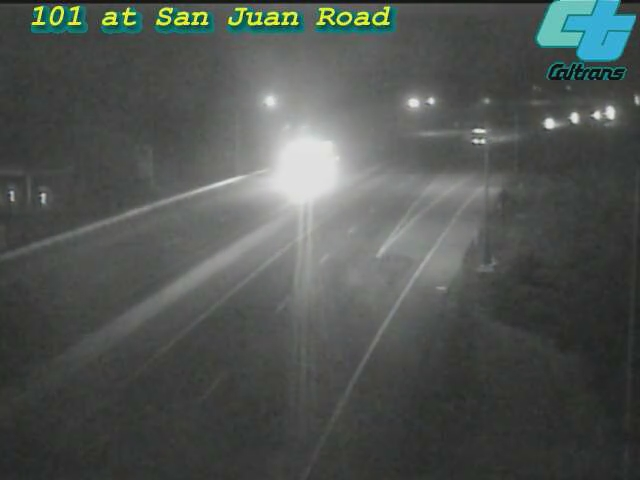vehicle: (258, 127, 338, 207), (525, 100, 575, 150), (455, 110, 505, 160), (548, 92, 598, 142), (581, 87, 631, 137), (570, 90, 620, 140)
